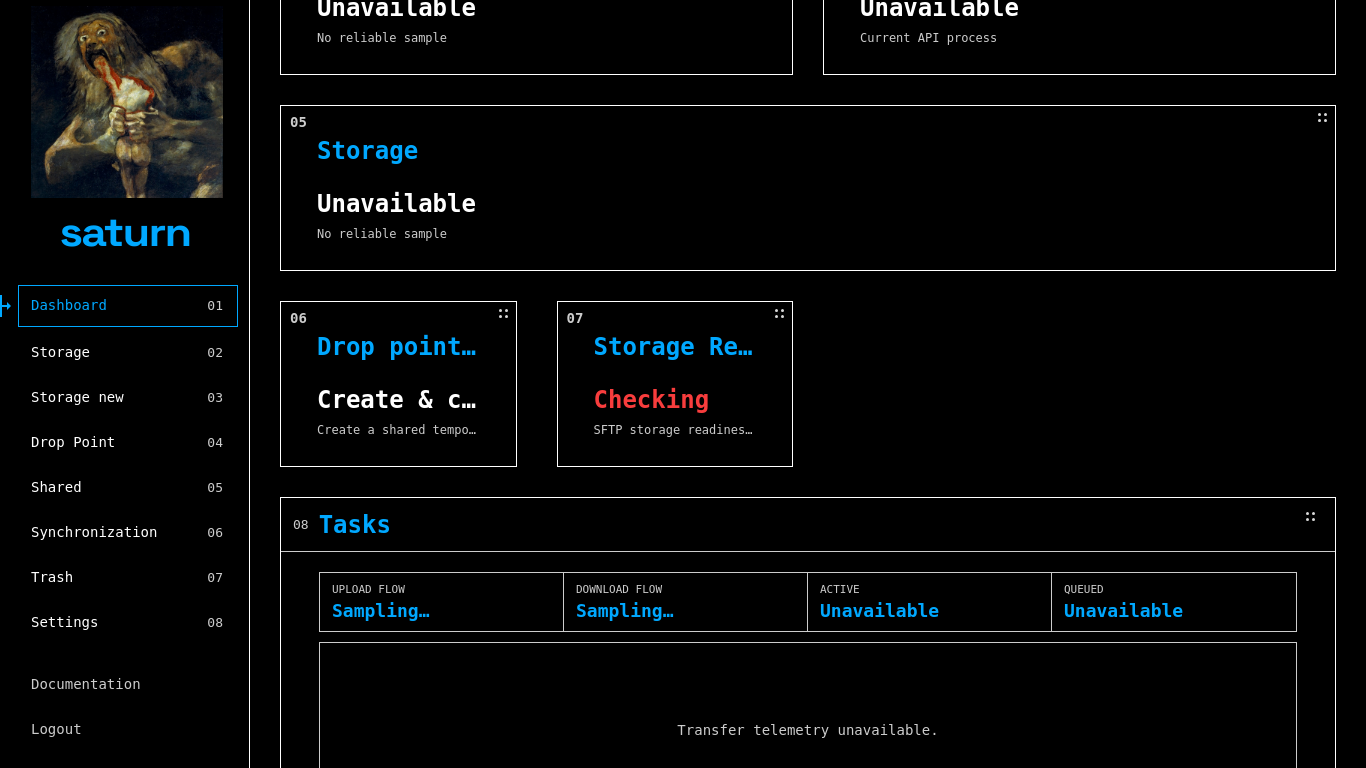
Test: owner Saturn UI › creates and copies a Drop point code directly from the dashboard
The width and height of the screenshot is (1366, 768).
(page scrolled)
Step 1. Click the button with aria-label "Create and copy Drop point code" → coordinates (398, 384), box left=281, top=302, right=516, bottom=466
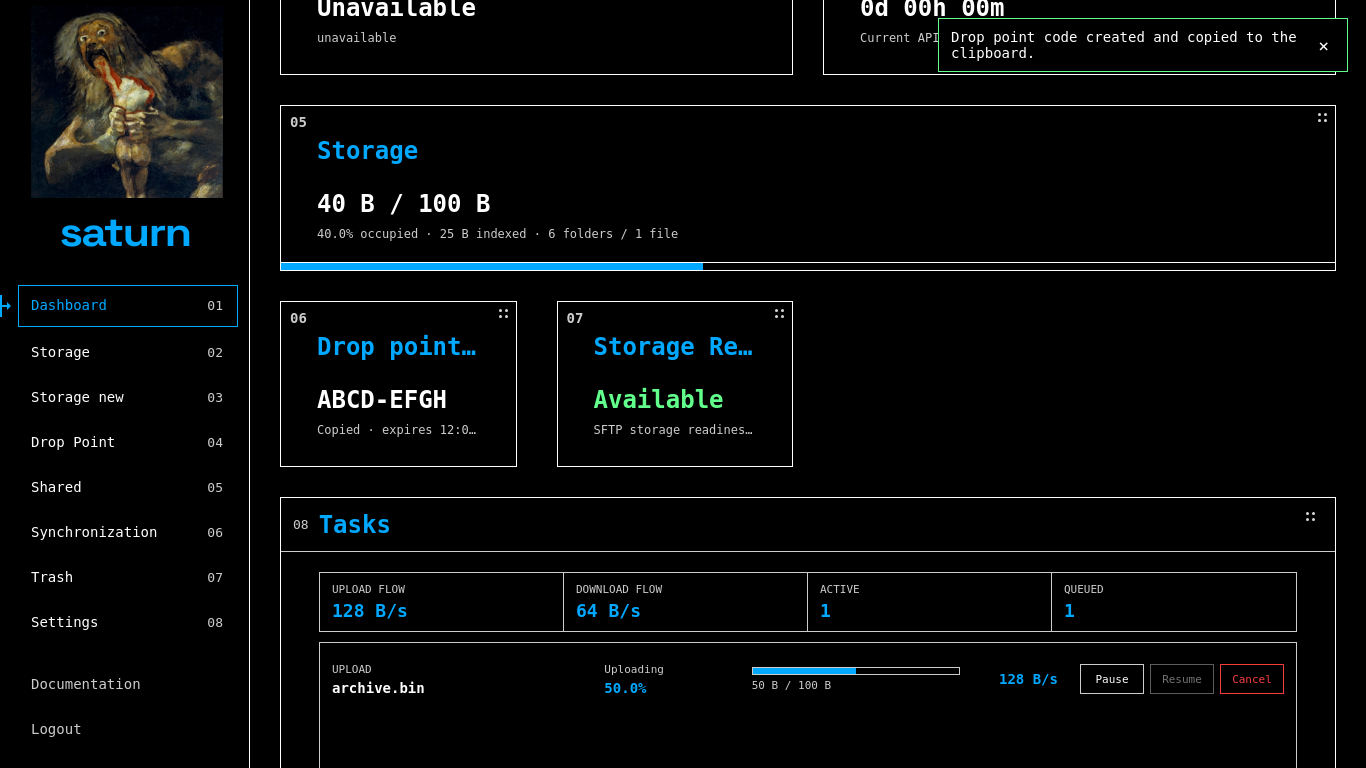
Now the text "ABCD-EFGH" is shown, box left=317, top=386, right=447, bottom=414
